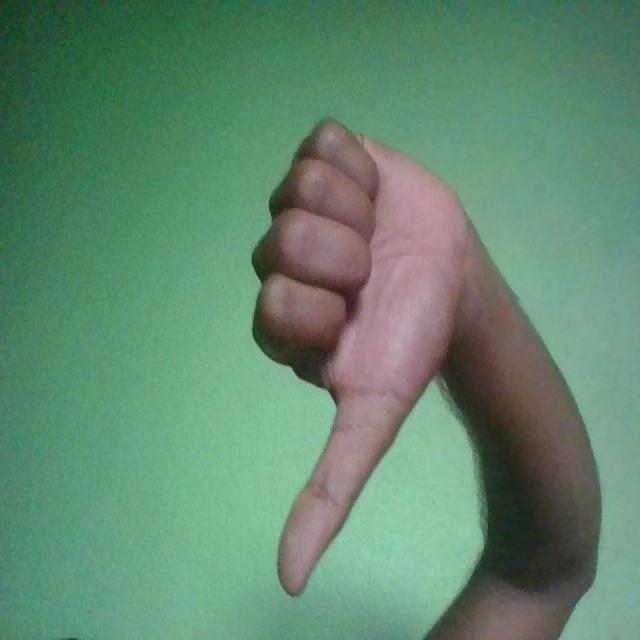Dislike: (250, 116, 470, 595)
